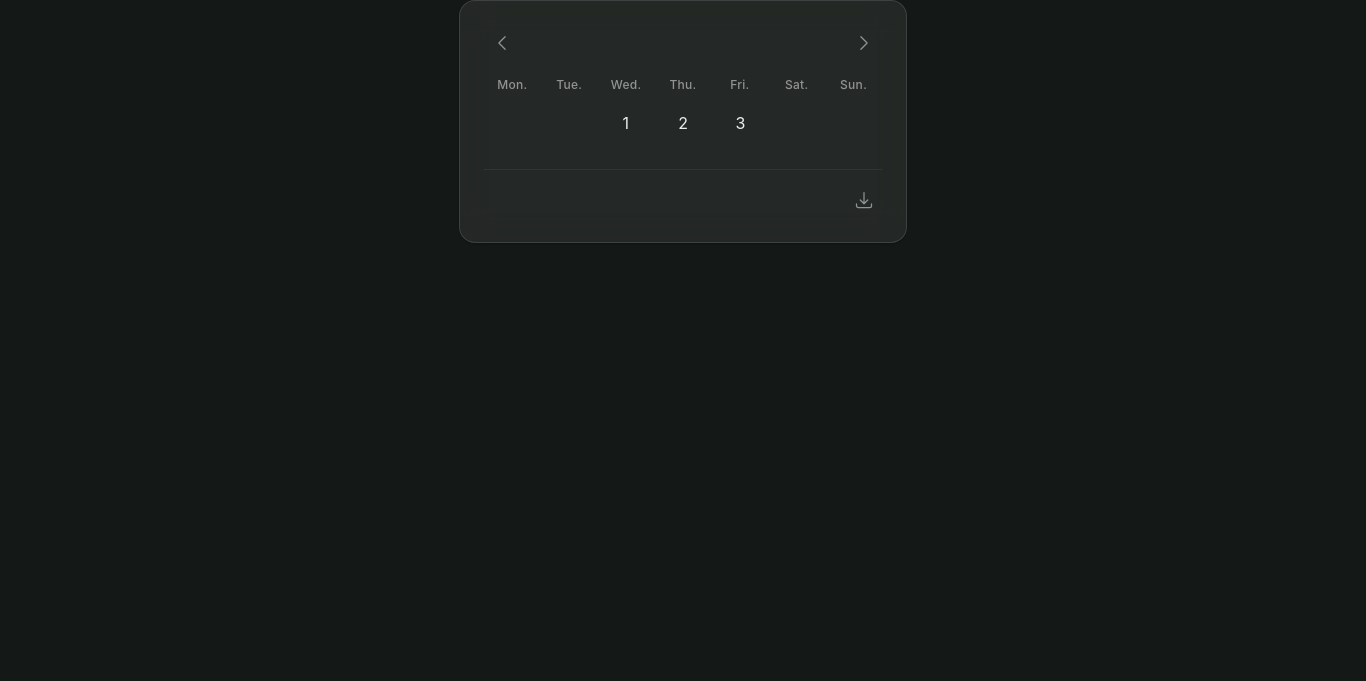
Test: <Calendar /> › visual behaviour › displays correct date and prefilled in MigrainePanel
Click the text "3": (740, 123) [736, 113, 745, 133]
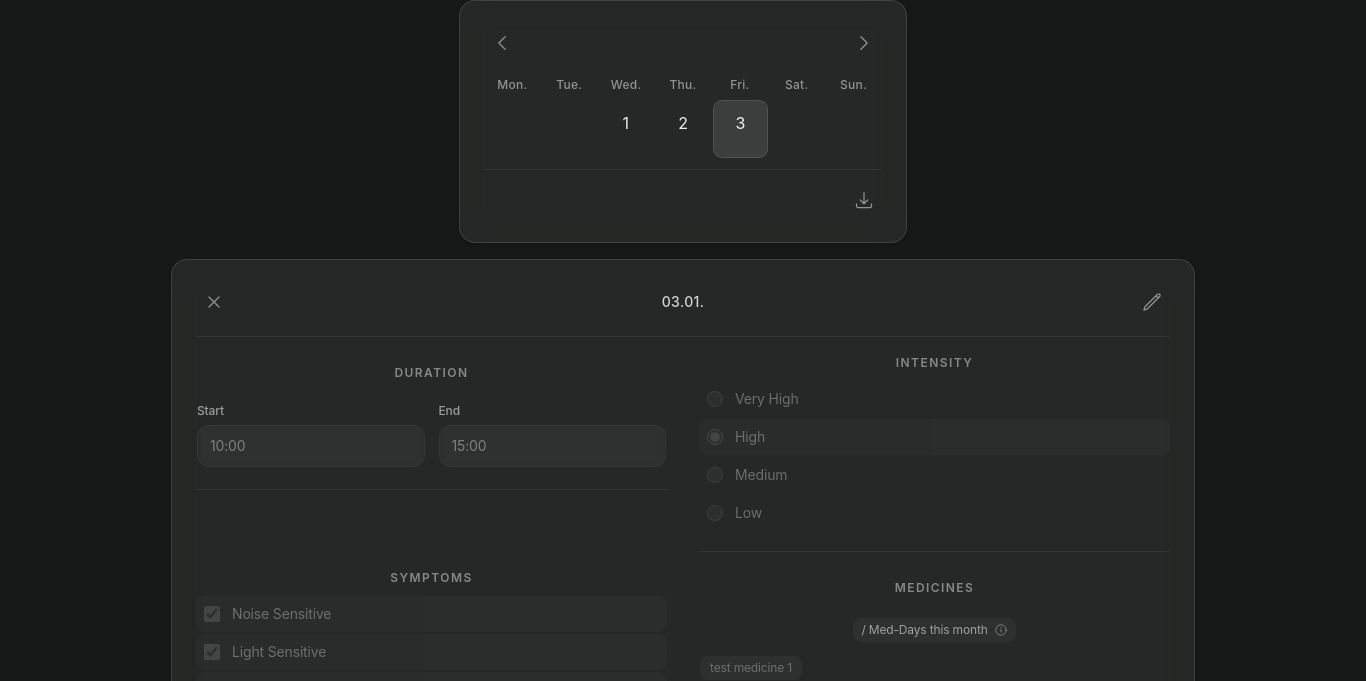
Now the radio button labelled "High" is checked, box [707, 429, 723, 445]
